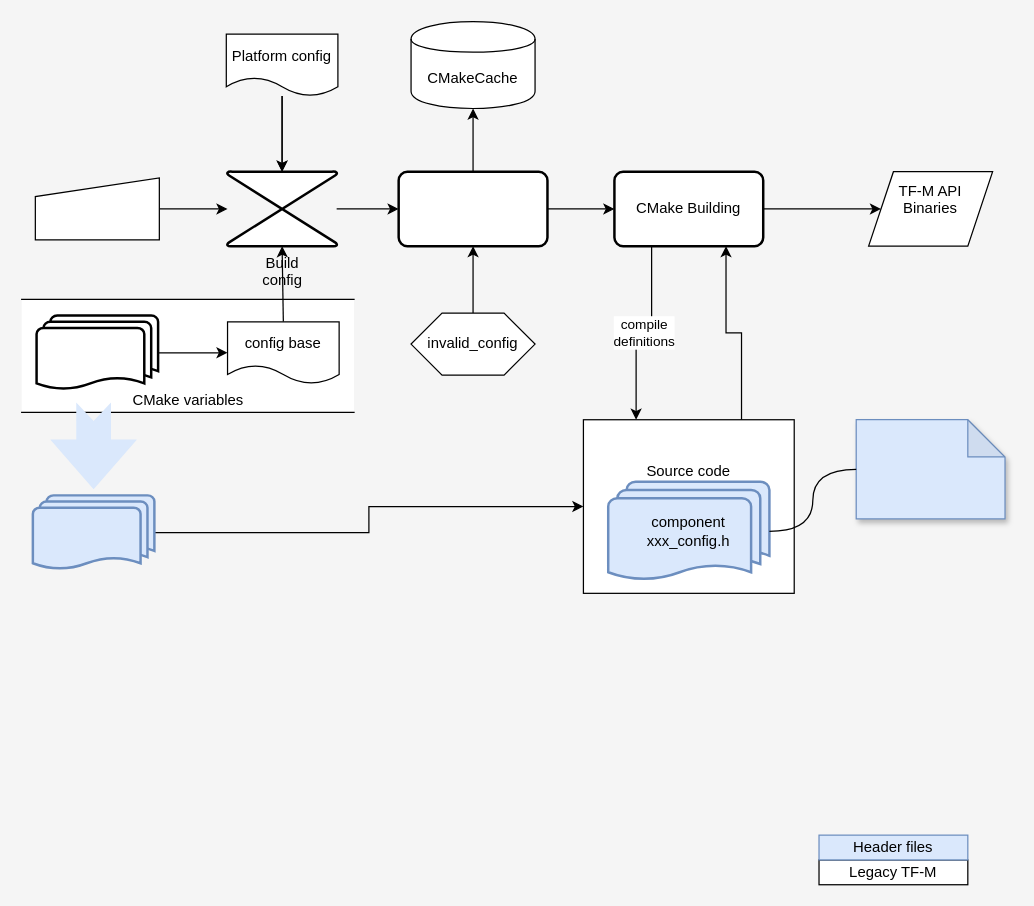
This 1034x906 diagram has some shape labels left out. Each missing label, with the centre of its shape:
"CMake confgurate" belongs at (472,208).
"Command line Input" belongs at (96,208).
"profiles" belongs at (97,352).
"profiles headers" belongs at (93,532).
"The default values. Not essential, but worth for completeness" belongs at (931,471).
